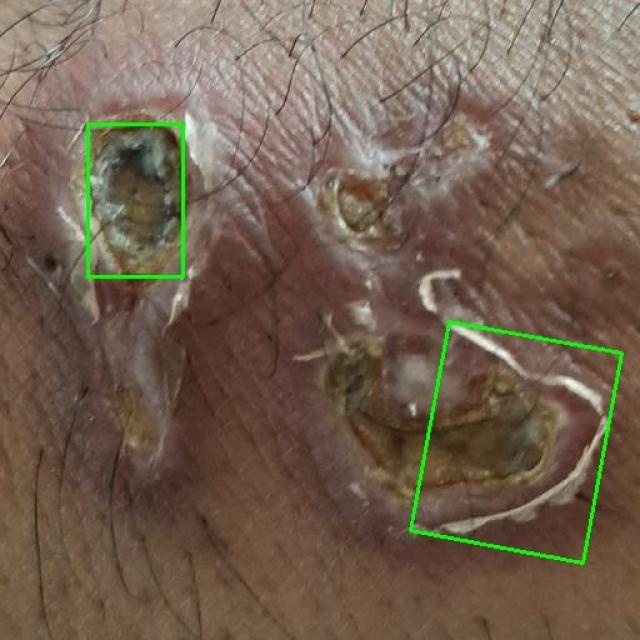Contact Dermatitis: (410, 321, 622, 563), (88, 124, 182, 276)
